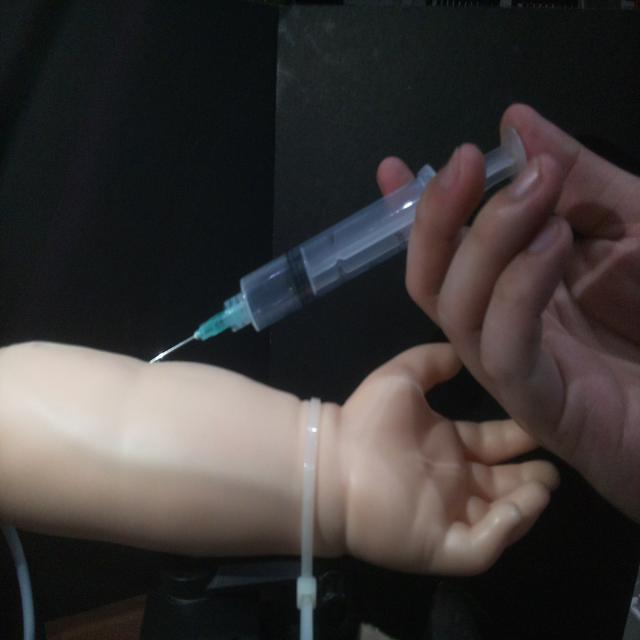26deg: (144, 122, 530, 367)
